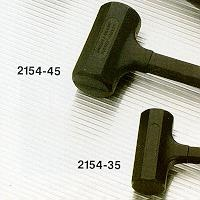hammer: (74, 1, 200, 98), (133, 105, 200, 196)
